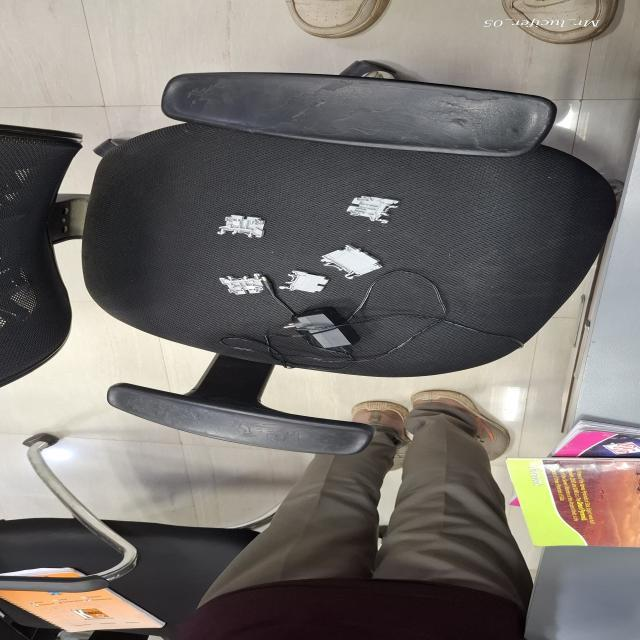Inverted: (278, 270, 330, 294)
Pass: (217, 272, 271, 298)
Reject: (344, 194, 402, 224), (210, 213, 274, 238)
